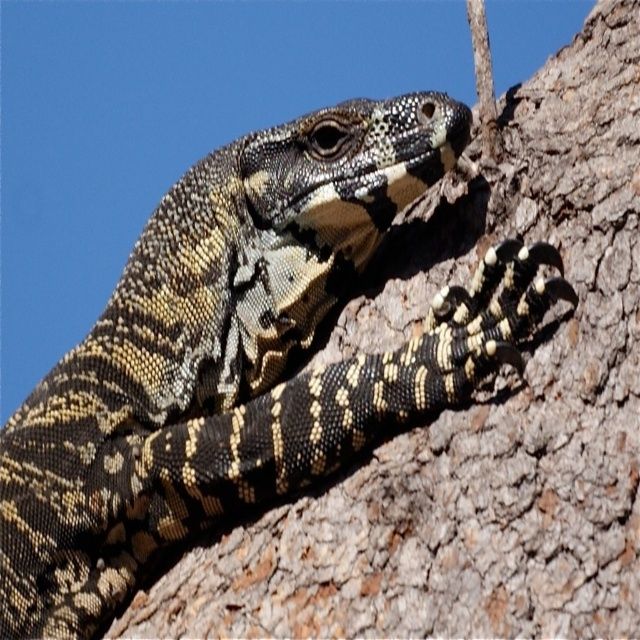Lizard: (3, 99, 576, 639)
